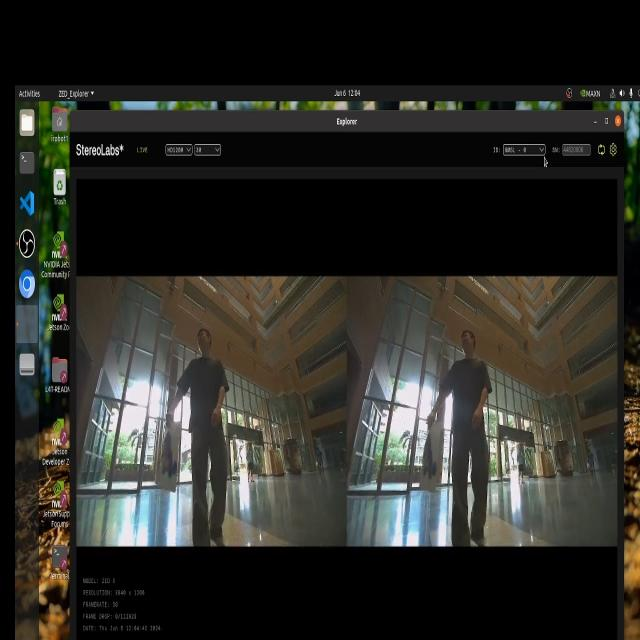blue: (421, 423, 442, 498), (160, 438, 180, 491)
